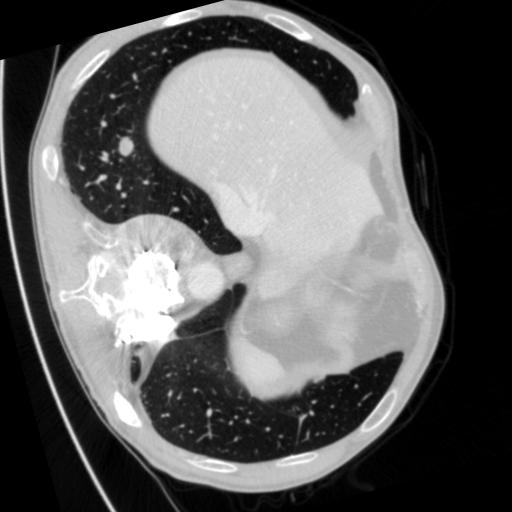nodule: (114, 134, 140, 160)
